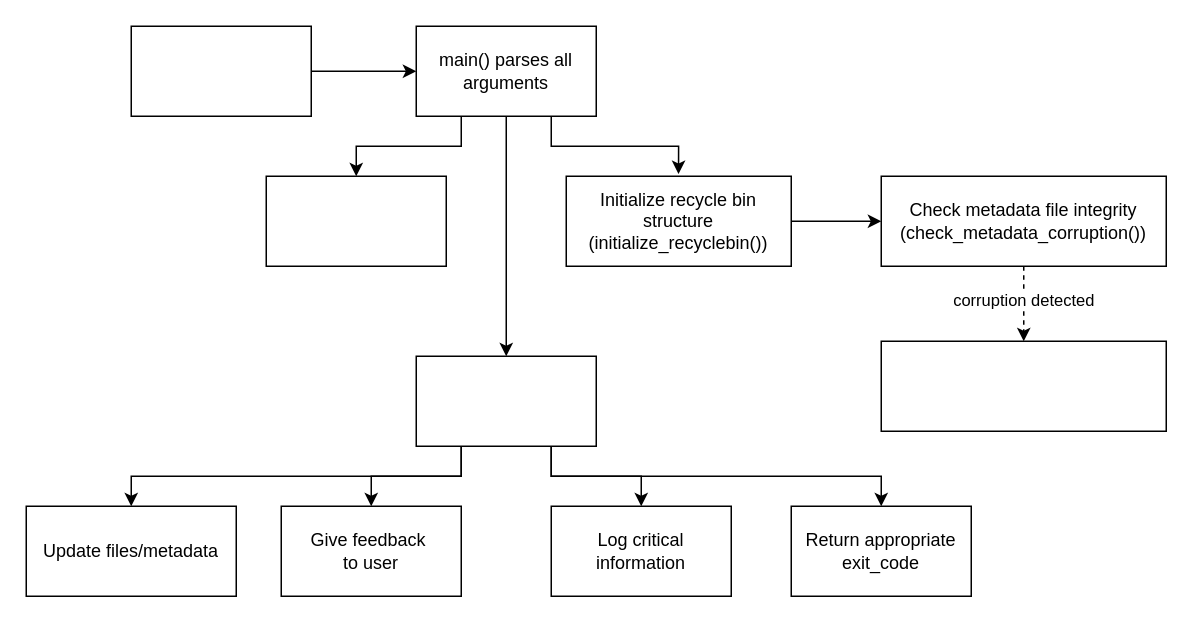
Image size: 1193x623. Some labels were removed from this diagram. The box of each missing label's shape, as (x1, y1, x2, y2) in pixels:
Call correct function: (415, 355, 596, 446)
Lock operation (lock_operation()): (265, 175, 446, 266)
Repair metadata file (repair_metadata_file()): (880, 340, 1166, 431)
User runs command: (130, 25, 311, 116)
